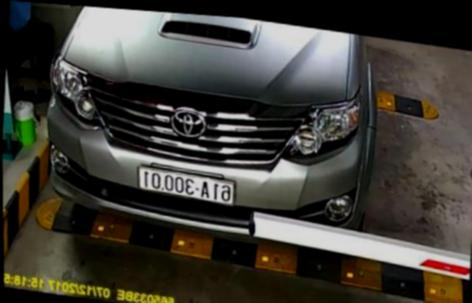License_Plate: (131, 161, 238, 205)
